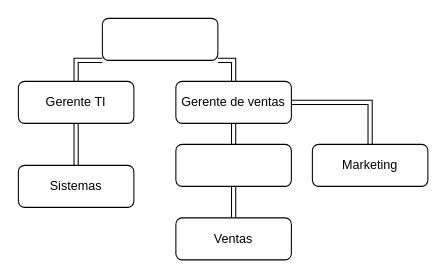
Image size: 446x278. Some labels were removed from this diagram. Here are the shapes that lost their labels. From the top down, the centre of each, then its label:
the point at 159,38: Director
the point at 233,164: Supervisor de ventas
